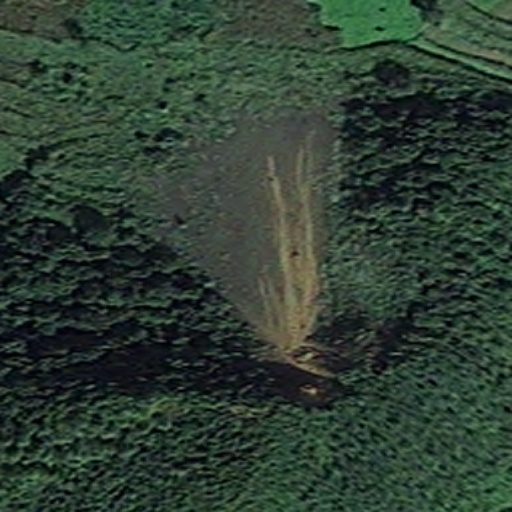landslide: (262, 145, 323, 374)
